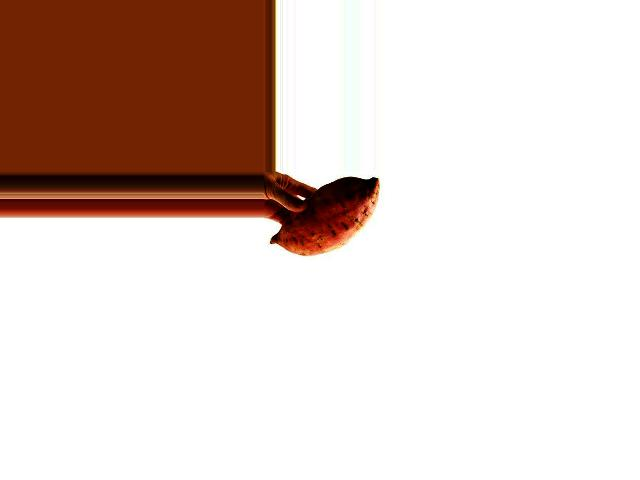sweet_potato: (274, 173, 382, 262)
